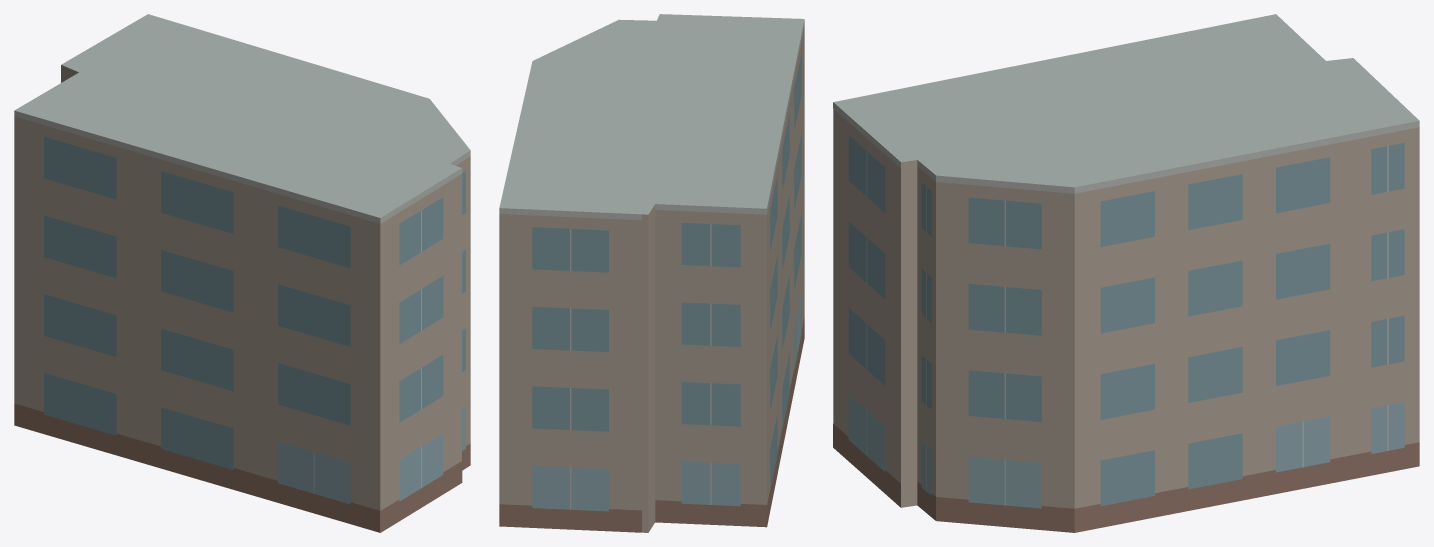
Rendered from survey-upis-32893773.glb.
The picture shows the model from 3 angles, left to right: view 1: azimuth 30°, elevation 25°; view 2: azimuth 150°, elevation 25°; view 3: azimuth 270°, elevation 25°; orthographic projection. The views are drawn at different scales.
Parts seen in each view (by area): view 1: survey-upis-32893773.tmp; view 2: survey-upis-32893773.tmp; view 3: survey-upis-32893773.tmp.
Boxes of the visible parts, left/top/right/bottom form: survey-upis-32893773.tmp: left=14, top=14, right=470, bottom=532; survey-upis-32893773.tmp: left=499, top=14, right=804, bottom=532; survey-upis-32893773.tmp: left=833, top=14, right=1419, bottom=532.
Size of the model in its own units: 14.1 by 13.1 by 20.16.
